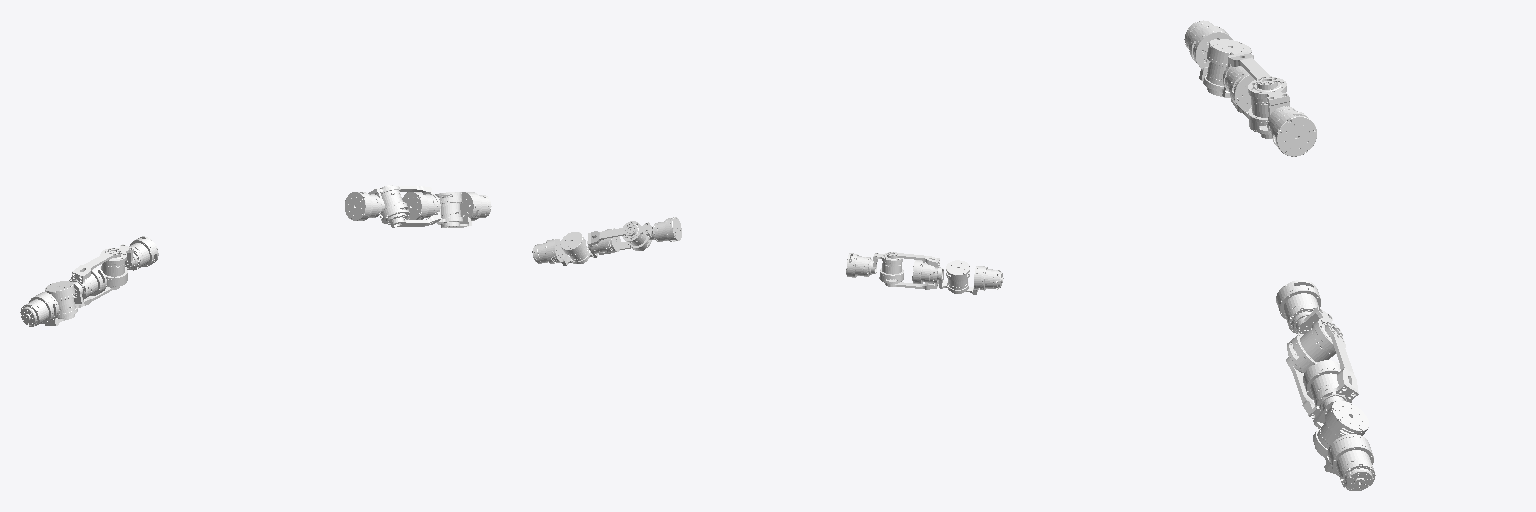
The robot description file, URDF, robot "dual_arm_1kg":
<?xml version='1.0' encoding='utf-8'?>
<robot name="dual_arm_1kg">
  <link name="base_link">
    <inertial>
      <origin xyz="-1.7653E-05 0.1789 0.00018456" rpy="0 0 0" />
      <mass value="10.998" />
      <inertia ixx="0.3066" ixy="1.7304E-06" ixz="-1.0288E-05" iyy="0.26623" iyz="7.2468E-05" izz="0.2251" />
    </inertial>
    <visual>
      <origin xyz="0 0 0" rpy="0 0 0" />
      <geometry>
        <mesh filename="package://dual_arm_description/meshes/base_link.STL" />
      </geometry>
      <material name="">
        <color rgba="0.79216 0.81961 0.93333 1" />
      </material>
    </visual>
    <collision>
      <origin xyz="0 0 0" rpy="0 0 0" />
      <geometry>
        <mesh filename="package://dual_arm_description/meshes/base_link.STL" />
      </geometry>
    </collision>
  </link>
  <link name="laxis1_link">
    <inertial>
      <origin xyz="-0.0063819 3.8724E-06 0.0020017" rpy="0 0 0" />
      <mass value="0.21943" />
      <inertia ixx="0.00016599" ixy="-2.3484E-07" ixz="2.0611E-07" iyy="0.00012603" iyz="-1.1767E-05" izz="0.0001292" />
    </inertial>
    <visual>
      <origin xyz="0 0 0" rpy="0 0 0" />
      <geometry>
        <mesh filename="package://dual_arm_description/meshes/laxis1_link.STL" />
      </geometry>
      <material name="">
        <color rgba="0.79216 0.81961 0.93333 1" />
      </material>
    </visual>
    <collision>
      <origin xyz="0 0 0" rpy="0 0 0" />
      <geometry>
        <mesh filename="package://dual_arm_description/meshes/laxis1_link.STL" />
      </geometry>
    </collision>
  </link>
  <joint name="laxis1_joint" type="revolute">
    <origin xyz="0.12844 -0.010901 0.9108" rpy="2.3441 0 -0.084669" />
    <parent link="base_link" />
    <child link="laxis1_link" />
    <axis xyz="1 0 0" />
    <limit lower="-3.14" upper="3.14" effort="20" velocity="2.0" />
  </joint>
  <link name="laxis2_link">
    <inertial>
      <origin xyz="-0.0151642205461063 0.00516950311812192 0.0148909964476645" rpy="0 0 0" />
      <mass value="0.213592778567682" />
      <inertia ixx="0.00018235790796228" ixy="5.37132222500932E-08" ixz="5.64047925806823E-07" iyy="0.000132556511272666" iyz="-2.24184763708786E-05" izz="7.53948619611351E-05" />
    </inertial>
    <visual>
      <origin xyz="0 0 0" rpy="0 0 0" />
      <geometry>
        <mesh filename="package://dual_arm_description/meshes/laxis2_link.STL" />
      </geometry>
      <material name="">
        <color rgba="0.792156862745098 0.819607843137255 0.933333333333333 1" />
      </material>
    </visual>
    <collision>
      <origin xyz="0 0 0" rpy="0 0 0" />
      <geometry>
        <mesh filename="package://dual_arm_description/meshes/laxis2_link.STL" />
      </geometry>
    </collision>
  </link>
  <joint name="laxis2_joint" type="revolute">
    <origin xyz="0.0774 -3.3783E-05 0.01715" rpy="-1.6846 -1.5688 -1.5708" />
    <parent link="laxis1_link" />
    <child link="laxis2_link" />
    <axis xyz="1 0 0" />
    <limit lower="-3.14" upper="3.14" effort="20" velocity="2.0" />
  </joint>
  <link name="laxis3_link">
    <inertial>
      <origin xyz="0.0118441133081597 0.0448173893054227 0.0199281435559954" rpy="0 0 0" />
      <mass value="0.0182957033092308" />
      <inertia ixx="7.87114328237778E-06" ixy="-6.20827217800596E-08" ixz="8.30755431500317E-07" iyy="5.37647483228574E-06" iyz="-1.02401812672426E-07" izz="8.73776705364907E-06" />
    </inertial>
    <visual>
      <origin xyz="0 0 0" rpy="0 0 0" />
      <geometry>
        <mesh filename="package://dual_arm_description/meshes/laxis3_link.STL" />
      </geometry>
      <material name="">
        <color rgba="1 1 1 1" />
      </material>
    </visual>
    <collision>
      <origin xyz="0 0 0" rpy="0 0 0" />
      <geometry>
        <mesh filename="package://dual_arm_description/meshes/laxis3_link.STL" />
      </geometry>
    </collision>
  </link>
  <joint name="laxis3_joint" type="revolute">
    <origin xyz="-0.016833 0.034747 0.1012" rpy="1.748 -0.28299 -2.1411" />
    <parent link="laxis2_link" />
    <child link="laxis3_link" />
    <axis xyz="0 1 0" />
    <limit lower="-3.14" upper="3.14" effort="20" velocity="2.0" />
  </joint>
  <link name="laxis4_link">
    <inertial>
      <origin xyz="0.0390421839077606 -0.0250129243501748 -0.0471342611946032" rpy="0 0 0" />
      <mass value="0.0616311590596033" />
      <inertia ixx="4.92339431179852E-05" ixy="3.8209283942534E-08" ixz="3.14550717978551E-05" iyy="7.55120020959109E-05" iyz="-4.61125036476071E-08" izz="3.73333488789559E-05" />
    </inertial>
    <visual>
      <origin xyz="0 0 0" rpy="0 0 0" />
      <geometry>
        <mesh filename="package://dual_arm_description/meshes/laxis4_link.STL" />
      </geometry>
      <material name="">
        <color rgba="1 1 1 1" />
      </material>
    </visual>
    <collision>
      <origin xyz="0 0 0" rpy="0 0 0" />
      <geometry>
        <mesh filename="package://dual_arm_description/meshes/laxis4_link.STL" />
      </geometry>
    </collision>
  </link>
  <joint name="laxis4_joint" type="revolute">
    <origin xyz="0.0098406 0.07055 0.016623" rpy="1.9399 0.41064 0.76965" />
    <parent link="laxis3_link" />
    <child link="laxis4_link" />
    <axis xyz="0 1 0" />
    <limit lower="-3.14" upper="3.14" effort="20" velocity="2.0" />
  </joint>
  <link name="laxis5_link">
    <inertial>
      <origin xyz="-0.0177232598229944 0.0448173893054237 0.0144455274141042" rpy="0 0 0" />
      <mass value="0.0182957033092307" />
      <inertia ixx="8.49343226329802E-06" ixy="9.28243029832125E-08" ixz="-9.17715334217635E-07" iyy="5.37647483228573E-06" iyz="-7.56574144277642E-08" izz="8.11547807272879E-06" />
    </inertial>
    <visual>
      <origin xyz="0 0 0" rpy="0 0 0" />
      <geometry>
        <mesh filename="package://dual_arm_description/meshes/laxis5_link.STL" />
      </geometry>
      <material name="">
        <color rgba="1 1 1 1" />
      </material>
    </visual>
    <collision>
      <origin xyz="0 0 0" rpy="0 0 0" />
      <geometry>
        <mesh filename="package://dual_arm_description/meshes/laxis5_link.STL" />
      </geometry>
    </collision>
  </link>
  <joint name="laxis5_joint" type="revolute">
    <origin xyz="0.068269 -0.019 -0.082391" rpy="-2.2242 0.24666 1.8795" />
    <parent link="laxis4_link" />
    <child link="laxis5_link" />
    <axis xyz="0 1 0" />
    <limit lower="-3.14" upper="3.14" effort="20" velocity="2.0" />
  </joint>
  <link name="laxis6_link">
    <inertial>
      <origin xyz="-0.0339956627845139 0.000603513294191727 0.00364359012406729" rpy="0 0 0" />
      <mass value="0.0306349253916363" />
      <inertia ixx="1.26835540628772E-05" ixy="-2.67323256579739E-07" ixz="-5.89188492528862E-08" iyy="1.04375646006907E-05" iyz="2.73962589384525E-08" izz="1.21146824475075E-05" />
    </inertial>
    <visual>
      <origin xyz="0 0 0" rpy="0 0 0" />
      <geometry>
        <mesh filename="package://dual_arm_description/meshes/laxis6_link.STL" />
      </geometry>
      <material name="">
        <color rgba="1 1 1 1" />
      </material>
    </visual>
    <collision>
      <origin xyz="0 0 0" rpy="0 0 0" />
      <geometry>
        <mesh filename="package://dual_arm_description/meshes/laxis6_link.STL" />
      </geometry>
    </collision>
  </link>
  <joint name="laxis6_joint" type="revolute">
    <origin xyz="-0.014851 0.070309 0.012309" rpy="2.4552 0.079108 -1.6355" />
    <parent link="laxis5_link" />
    <child link="laxis6_link" />
    <axis xyz="0 1 0" />
    <limit lower="-3.14" upper="3.14" effort="20" velocity="2.0" />
  </joint>
  <link name="laxis7_link">
    <inertial>
      <origin xyz="0.121269049640641 -0.435142426901518 0.685643187482132" rpy="0 0 0" />
      <mass value="12.1217453298508" />
      <inertia ixx="1.52363058130509" ixy="-0.0377682920302424" ixz="-0.0826026602861309" iyy="1.42942310844602" iyz="-0.339016068416828" izz="0.51577930701864" />
    </inertial>
    <visual>
      <origin xyz="0 0 0" rpy="0 0 0" />
      <geometry>
        <mesh filename="package://dual_arm_description/meshes/laxis7_link.STL" />
      </geometry>
      <material name="">
        <color rgba="1 1 1 1" />
      </material>
    </visual>
    <collision>
      <origin xyz="0 0 0" rpy="0 0 0" />
      <geometry>
        <mesh filename="package://dual_arm_description/meshes/laxis7_link.STL" />
      </geometry>
    </collision>
  </link>
  <joint name="laxis7_joint" type="revolute">
    <origin xyz="-0.098673 -0.019251 0.010129" rpy="2.8661 1.1866 -1.8271" />
    <parent link="laxis6_link" />
    <child link="laxis7_link" />
    <axis xyz="0 1 0" />
    <limit lower="-3.14" upper="3.14" effort="20" velocity="2.0" />
  </joint>
  <link name="raxis1_link">
    <inertial>
      <origin xyz="0 0 0" rpy="0 0 0" />
      <mass value="0" />
      <inertia ixx="0" ixy="0" ixz="0" iyy="0" iyz="0" izz="0" />
    </inertial>
    <visual>
      <origin xyz="0 0 0" rpy="0 0 0" />
      <geometry>
        <mesh filename="package://dual_arm_description/meshes/raxis1_link.STL" />
      </geometry>
      <material name="">
        <color rgba="1 1 1 1" />
      </material>
    </visual>
    <collision>
      <origin xyz="0 0 0" rpy="0 0 0" />
      <geometry>
        <mesh filename="package://dual_arm_description/meshes/raxis1_link.STL" />
      </geometry>
    </collision>
  </link>
  <joint name="raxis1_joint" type="revolute">
    <origin xyz="-0.1541 0.013079 0.9108" rpy="2.2799 0 3.0569" />
    <parent link="base_link" />
    <child link="raxis1_link" />
    <axis xyz="1 0 0" />
    <limit lower="-3.14" upper="3.14" effort="20" velocity="2.0" />
  </joint>
  <link name="raxis2_link">
    <inertial>
      <origin xyz="-0.0135829266625127 0.0049600143853062 0.0137183768489762" rpy="0 0 0" />
      <mass value="0.224824025857165" />
      <inertia ixx="0.000194483151460783" ixy="5.50607221353687E-08" ixz="5.53204099003949E-07" iyy="0.00014024241041905" iyz="-2.20538985705619E-05" izz="7.99268291278131E-05" />
    </inertial>
    <visual>
      <origin xyz="0 0 0" rpy="0 0 0" />
      <geometry>
        <mesh filename="package://dual_arm_description/meshes/raxis2_link.STL" />
      </geometry>
      <material name="">
        <color rgba="0.792156862745098 0.819607843137255 0.933333333333333 1" />
      </material>
    </visual>
    <collision>
      <origin xyz="0 0 0" rpy="0 0 0" />
      <geometry>
        <mesh filename="package://dual_arm_description/meshes/raxis2_link.STL" />
      </geometry>
    </collision>
  </link>
  <joint name="raxis2_joint" type="revolute">
    <origin xyz="0.051649 -0.012151 0.012103" rpy="-1.6846 -0.78343 -1.5708" />
    <parent link="raxis1_link" />
    <child link="raxis2_link" />
    <axis xyz="1 0 0" />
    <limit lower="-3.14" upper="3.14" effort="20" velocity="2.0" />
  </joint>
  <link name="raxis3_link">
    <inertial>
      <origin xyz="0.0118441133081594 0.0448173893054226 0.019928143555995" rpy="0 0 0" />
      <mass value="0.0182957033092306" />
      <inertia ixx="7.87114328237767E-06" ixy="-6.20827217800463E-08" ixz="8.30755431500304E-07" iyy="5.37647483228571E-06" iyz="-1.0240181267241E-07" izz="8.73776705364897E-06" />
    </inertial>
    <visual>
      <origin xyz="0 0 0" rpy="0 0 0" />
      <geometry>
        <mesh filename="package://dual_arm_description/meshes/raxis3_link.STL" />
      </geometry>
      <material name="">
        <color rgba="1 1 1 1" />
      </material>
    </visual>
    <collision>
      <origin xyz="0 0 0" rpy="0 0 0" />
      <geometry>
        <mesh filename="package://dual_arm_description/meshes/raxis3_link.STL" />
      </geometry>
    </collision>
  </link>
  <joint name="raxis3_joint" type="revolute">
    <origin xyz="-0.016833 0.034747 0.1012" rpy="1.748 -0.28299 -2.1411" />
    <parent link="raxis2_link" />
    <child link="raxis3_link" />
    <axis xyz="0 1 0" />
    <limit lower="-3.14" upper="3.14" effort="20" velocity="2.0" />
  </joint>
  <link name="raxis4_link">
    <inertial>
      <origin xyz="0.0390421832632567 -0.0250129212766904 -0.0471342604671557" rpy="0 0 0" />
      <mass value="0.0616311576943978" />
      <inertia ixx="4.9233941619484E-05" ixy="3.82096445631055E-08" ixz="3.14550705061862E-05" iyy="7.55119995175738E-05" iyz="-4.61129422819847E-08" izz="3.73333477929218E-05" />
    </inertial>
    <visual>
      <origin xyz="0 0 0" rpy="0 0 0" />
      <geometry>
        <mesh filename="package://dual_arm_description/meshes/raxis4_link.STL" />
      </geometry>
      <material name="">
        <color rgba="1 1 1 1" />
      </material>
    </visual>
    <collision>
      <origin xyz="0 0 0" rpy="0 0 0" />
      <geometry>
        <mesh filename="package://dual_arm_description/meshes/raxis4_link.STL" />
      </geometry>
    </collision>
  </link>
  <joint name="raxis4_joint" type="revolute">
    <origin xyz="0.0098406 0.07055 0.016623" rpy="1.9399 0.41064 0.76965" />
    <parent link="raxis3_link" />
    <child link="raxis4_link" />
    <axis xyz="0 1 0" />
    <limit lower="-3.14" upper="3.14" effort="20" velocity="2.0" />
  </joint>
  <link name="raxis5_link">
    <inertial>
      <origin xyz="-0.0177232598229943 0.0448173893054233 0.0144455274141044" rpy="0 0 0" />
      <mass value="0.0182957033092307" />
      <inertia ixx="8.493432263298E-06" ixy="9.28243029832134E-08" ixz="-9.17715334217627E-07" iyy="5.37647483228571E-06" iyz="-7.56574144277652E-08" izz="8.11547807272879E-06" />
    </inertial>
    <visual>
      <origin xyz="0 0 0" rpy="0 0 0" />
      <geometry>
        <mesh filename="package://dual_arm_description/meshes/raxis5_link.STL" />
      </geometry>
      <material name="">
        <color rgba="1 1 1 1" />
      </material>
    </visual>
    <collision>
      <origin xyz="0 0 0" rpy="0 0 0" />
      <geometry>
        <mesh filename="package://dual_arm_description/meshes/raxis5_link.STL" />
      </geometry>
    </collision>
  </link>
  <joint name="raxis5_joint" type="revolute">
    <origin xyz="0.068269 -0.019 -0.082391" rpy="-2.2242 0.24666 1.8795" />
    <parent link="raxis4_link" />
    <child link="raxis5_link" />
    <axis xyz="0 1 0" />
    <limit lower="-3.14" upper="3.14" effort="20" velocity="2.0" />
  </joint>
  <link name="raxis6_link">
    <inertial>
      <origin xyz="-0.0339956627845134 0.000603513294192171 0.00364359012406797" rpy="0 0 0" />
      <mass value="0.0306349253916362" />
      <inertia ixx="1.26835540628772E-05" ixy="-2.67323256579738E-07" ixz="-5.89188492528661E-08" iyy="1.04375646006907E-05" iyz="2.73962589384556E-08" izz="1.21146824475075E-05" />
    </inertial>
    <visual>
      <origin xyz="0 0 0" rpy="0 0 0" />
      <geometry>
        <mesh filename="package://dual_arm_description/meshes/raxis6_link.STL" />
      </geometry>
      <material name="">
        <color rgba="1 1 1 1" />
      </material>
    </visual>
    <collision>
      <origin xyz="0 0 0" rpy="0 0 0" />
      <geometry>
        <mesh filename="package://dual_arm_description/meshes/raxis6_link.STL" />
      </geometry>
    </collision>
  </link>
  <joint name="raxis6_joint" type="revolute">
    <origin xyz="-0.014851 0.070309 0.012309" rpy="2.4552 0.079108 -1.6355" />
    <parent link="raxis5_link" />
    <child link="raxis6_link" />
    <axis xyz="0 1 0" />
    <limit lower="-3.14" upper="3.14" effort="20" velocity="2.0" />
  </joint>
  <link name="raxis7_link">
    <inertial>
      <origin xyz="-0.302167148563779 -0.618500704965407 0.605751449374939" rpy="0 0 0" />
      <mass value="12.1217453298508" />
      <inertia ixx="1.17417086774541" ixy="0.00811410119519612" ixz="0.527879311234981" iyy="1.53867726117563" iyz="-0.0310569472971539" izz="0.755984867848713" />
    </inertial>
    <visual>
      <origin xyz="0 0 0" rpy="0 0 0" />
      <geometry>
        <mesh filename="package://dual_arm_description/meshes/raxis7_link.STL" />
      </geometry>
      <material name="">
        <color rgba="1 1 1 1" />
      </material>
    </visual>
    <collision>
      <origin xyz="0 0 0" rpy="0 0 0" />
      <geometry>
        <mesh filename="package://dual_arm_description/meshes/raxis7_link.STL" />
      </geometry>
    </collision>
  </link>
  <joint name="raxis7_joint" type="revolute">
    <origin xyz="-0.098673 -0.019251 0.010129" rpy="2.8661 1.1866 -1.8271" />
    <parent link="raxis6_link" />
    <child link="raxis7_link" />
    <axis xyz="0 1 0" />
    <limit lower="-3.14" upper="3.14" effort="20" velocity="2.0" />
  </joint>
</robot>

--- What the picture shows (computed from the rendered views, not written in the file) ---
3 views of the same robot in one strip: view 1: azimuth 30°, elevation 25°; view 2: azimuth 150°, elevation 25°; view 3: azimuth 270°, elevation 25° (orthographic).
Model dual_arm_1kg with 15 links and 14 joints (14 revolute), rooted at base_link, posed every joint at zero.
Visible links, largest first — view 1: laxis4_link, raxis4_link, laxis3_link, laxis6_link, raxis3_link, raxis7_link, laxis5_link, raxis6_link, raxis5_link; view 2: raxis4_link, laxis3_link, laxis4_link, laxis6_link, raxis3_link, raxis6_link, raxis5_link, raxis7_link; view 3: laxis4_link, raxis3_link, laxis3_link, laxis7_link, raxis6_link, laxis6_link, raxis4_link, laxis5_link, raxis5_link, raxis7_link.
Link boxes in pixels (x1,y1,x2,y2): laxis4_link: [380, 185, 441, 227]; raxis4_link: [69, 248, 127, 305]; laxis3_link: [345, 186, 400, 220]; laxis6_link: [435, 192, 474, 227]; raxis3_link: [100, 236, 158, 270]; raxis7_link: [20, 293, 57, 326]; laxis5_link: [402, 192, 462, 224]; raxis6_link: [42, 281, 75, 325]; raxis5_link: [57, 267, 106, 317]; raxis4_link: [879, 252, 939, 289]; laxis3_link: [622, 217, 681, 241]; laxis4_link: [588, 224, 651, 254]; laxis6_link: [553, 232, 588, 265]; raxis3_link: [846, 253, 902, 277]; raxis6_link: [946, 260, 977, 294]; raxis5_link: [912, 260, 968, 292]; raxis7_link: [976, 266, 1003, 290]; laxis4_link: [1286, 322, 1358, 418]; raxis3_link: [1248, 78, 1316, 156]; laxis3_link: [1276, 280, 1345, 351]; laxis7_link: [1329, 437, 1375, 490]; raxis6_link: [1195, 31, 1251, 96]; laxis6_link: [1314, 401, 1369, 473]; raxis4_link: [1223, 51, 1281, 138]; laxis5_link: [1303, 360, 1346, 455]; raxis5_link: [1203, 66, 1254, 111]; raxis7_link: [1184, 20, 1228, 66].
Bounding box of the posed robot: 1.3 × 0.2835 × 0.2103 m (x, y, z).
Meshes: 15 distinct files referenced, 10 mesh visuals loaded (10 binary STL); not drawn: 5 (reference not matched to a file when rendering).
